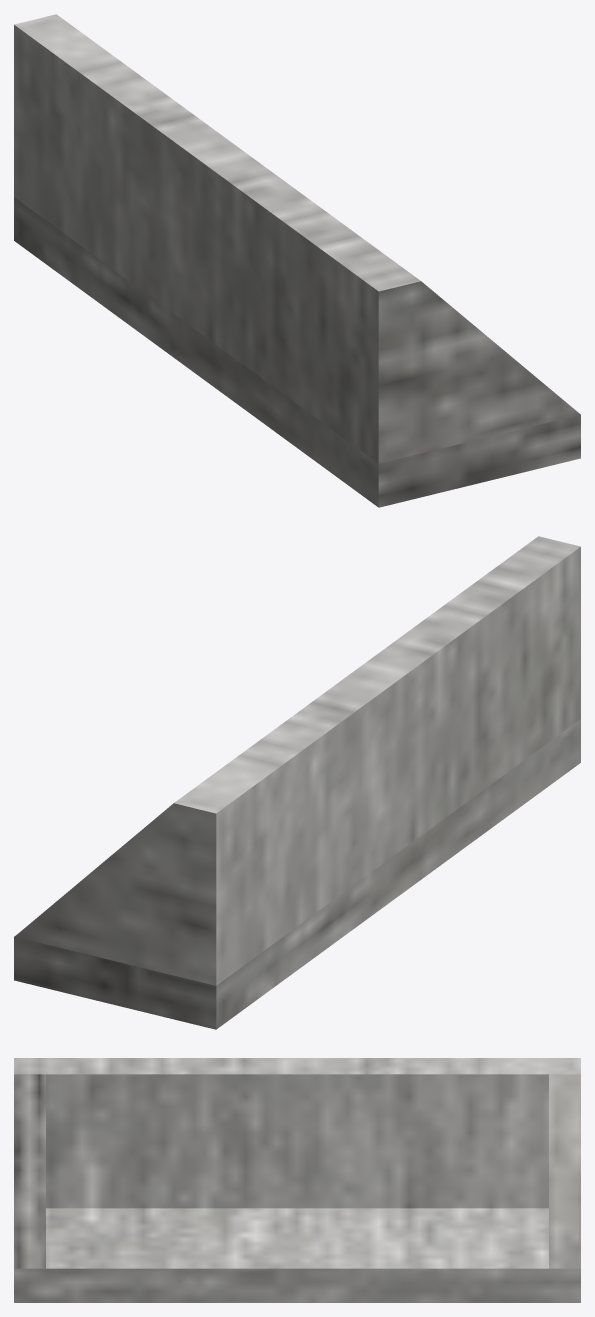
The model's file is shelf1.FBX.
The picture shows the model from 3 angles, top to bottom: view 1: azimuth 30°, elevation 25°; view 2: azimuth 150°, elevation 25°; view 3: azimuth 270°, elevation 25°; orthographic projection. The views are drawn at different scales.
Parts seen in each view (by area): view 1: Box001; view 2: Box001; view 3: Box001.
Part boxes in pixels (<box>): Box001: <box>14,14,580,507</box>; Box001: <box>14,536,580,1029</box>; Box001: <box>14,1058,580,1302</box>.
Size of the model in its own units: 42.99 by 43.92 by 134.
1 material, 1 textured.
